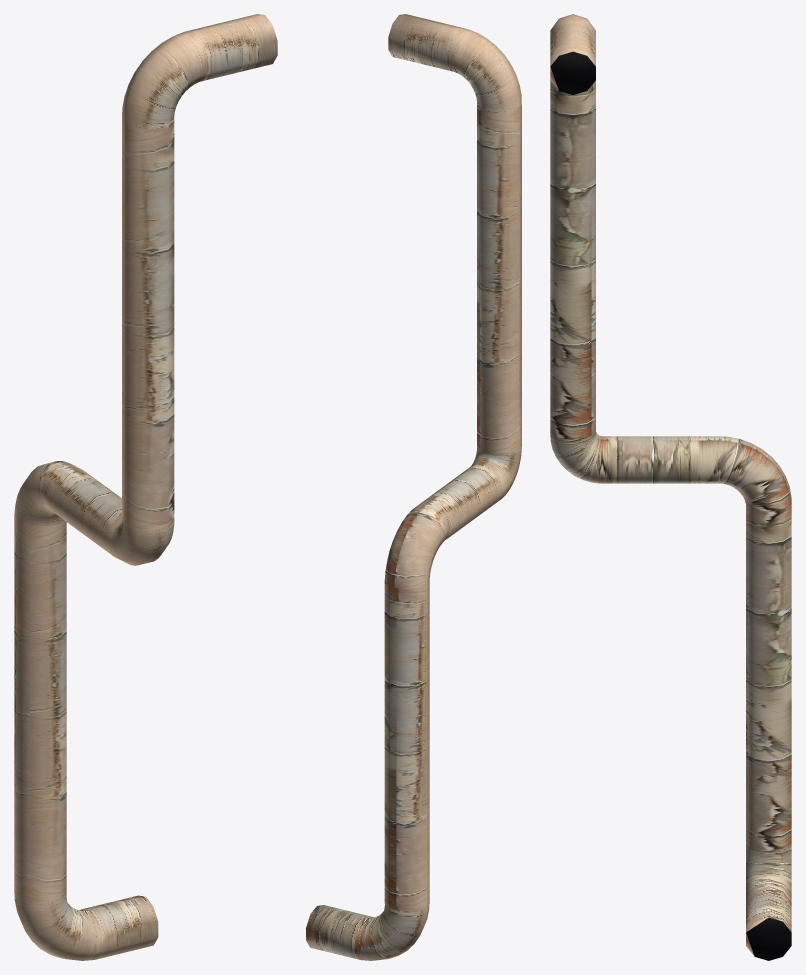
Rendered from wallPipe1.fbx.
3 renders of one model, left to right at view 1: azimuth 30°, elevation 25°; view 2: azimuth 150°, elevation 25°; view 3: azimuth 270°, elevation 25°, orthographic. The views are drawn at different scales.
Parts seen in each view (by area): view 1: pipeA200; view 2: pipeA200; view 3: pipeA200.
Part boxes in pixels (x1,y1,x2,y2): pipeA200: (14, 14, 277, 960); pipeA200: (306, 14, 521, 960); pipeA200: (550, 14, 791, 960).
Bounding box in the file's own units: 0.8346 × 5.73 × 1.37.
